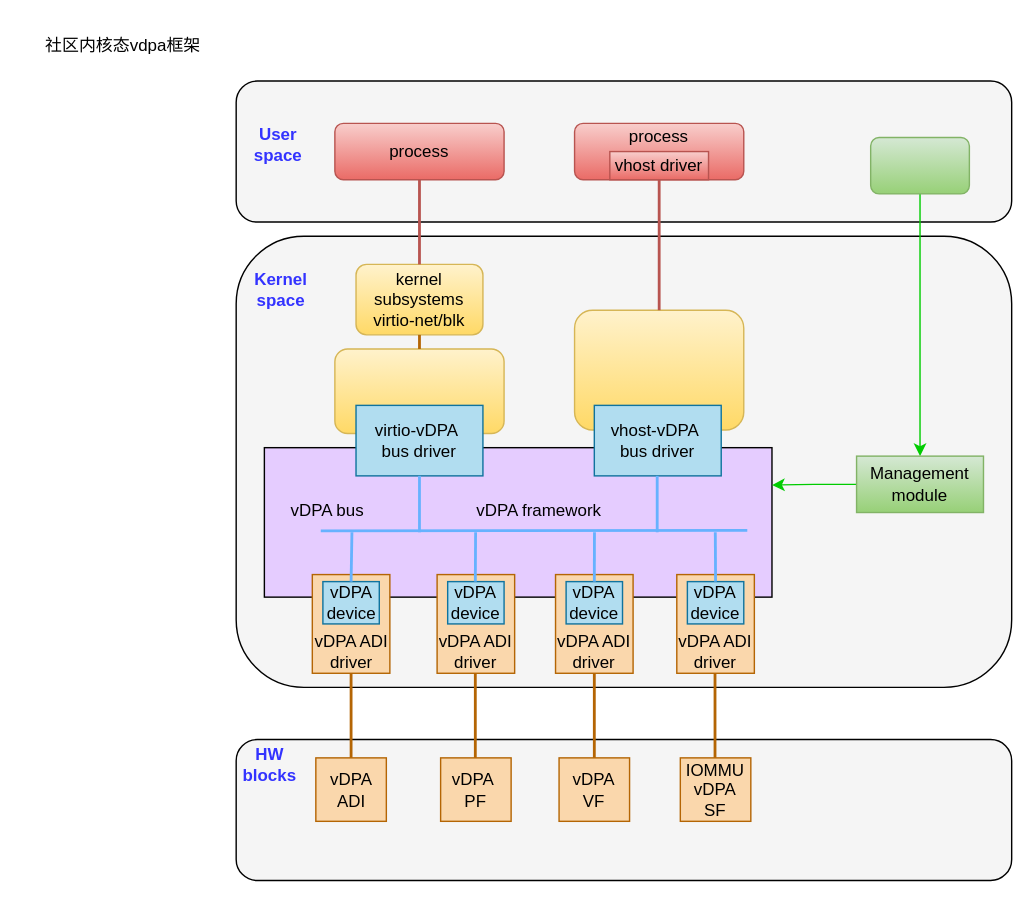
Image size: 1036x905. Some labels were removed from this diagram. Here are the shapes that lost their labels. From the top down, the centre of each, then its label:
At pixel 919 165: "M anagement tool".
At pixel 658 369: "vhost subsystem".
At pixel 418 391: "virtio driver".
